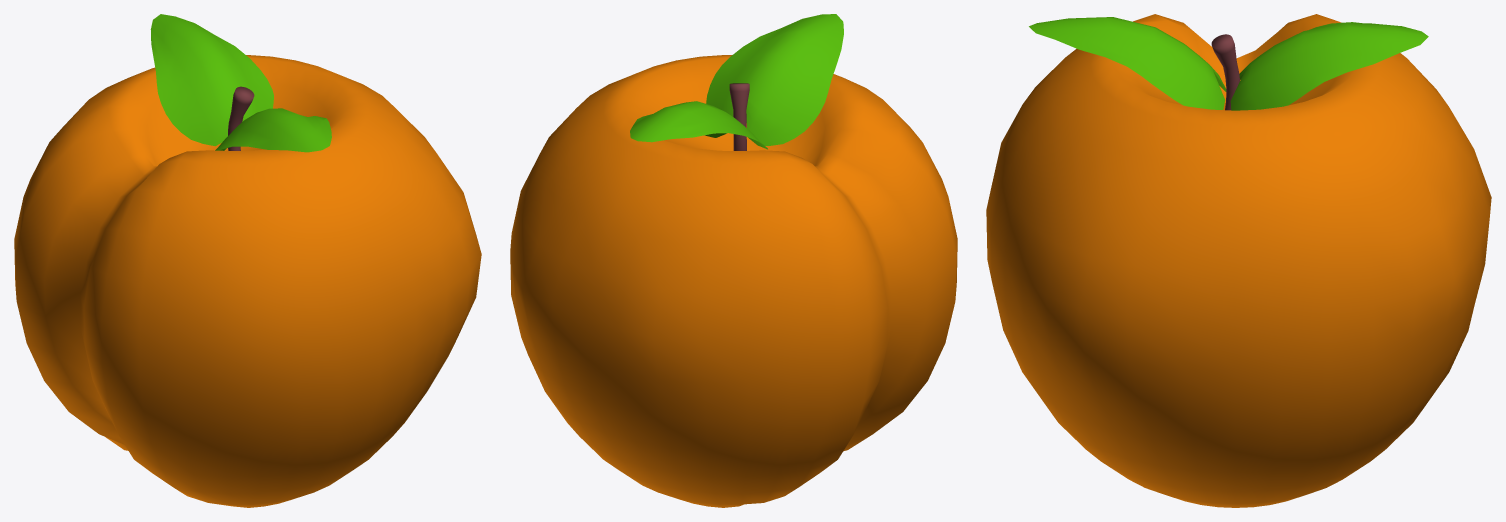
The model's file is food.fbx.
3 views of the same model, side by side, from view 1: azimuth 30°, elevation 25°; view 2: azimuth 150°, elevation 25°; view 3: azimuth 270°, elevation 25° (orthographic). The views are drawn at different scales.
Parts seen in each view (by area): view 1: Sphere.004; view 2: Sphere.004; view 3: Sphere.004.
Part boxes in pixels (x1,y1,x2,y2): Sphere.004: [14, 14, 481, 507]; Sphere.004: [510, 14, 957, 507]; Sphere.004: [986, 14, 1491, 507].
Size of the model in its own units: 11.73 by 12.71 by 12.31.
